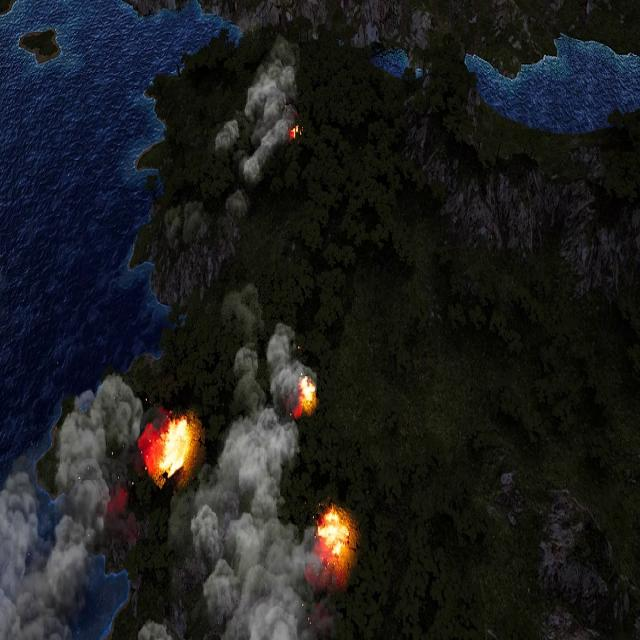fire: (155, 415, 194, 481), (316, 505, 351, 563), (294, 376, 316, 415), (289, 124, 300, 143)
smoke: (167, 322, 334, 640), (0, 373, 147, 640), (170, 33, 304, 243)
